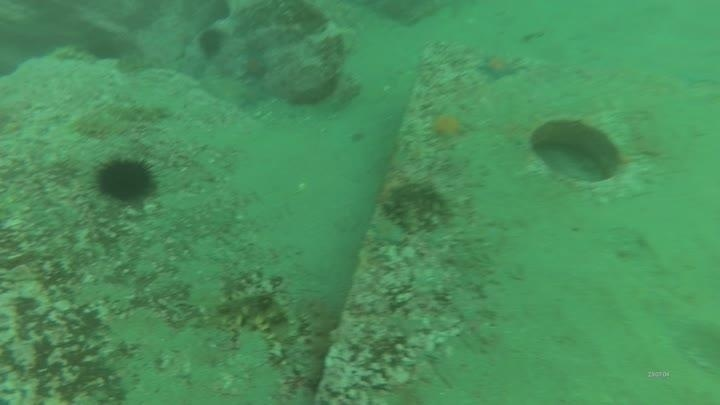echinus: (91, 154, 160, 206), (195, 26, 227, 61)
holothurian: (215, 288, 298, 351), (296, 293, 339, 361), (101, 98, 172, 126), (67, 109, 129, 140), (320, 25, 350, 83), (49, 42, 100, 67)
starfish: (424, 105, 473, 144), (475, 51, 524, 84), (368, 214, 409, 248), (239, 47, 272, 84), (234, 82, 269, 111)
